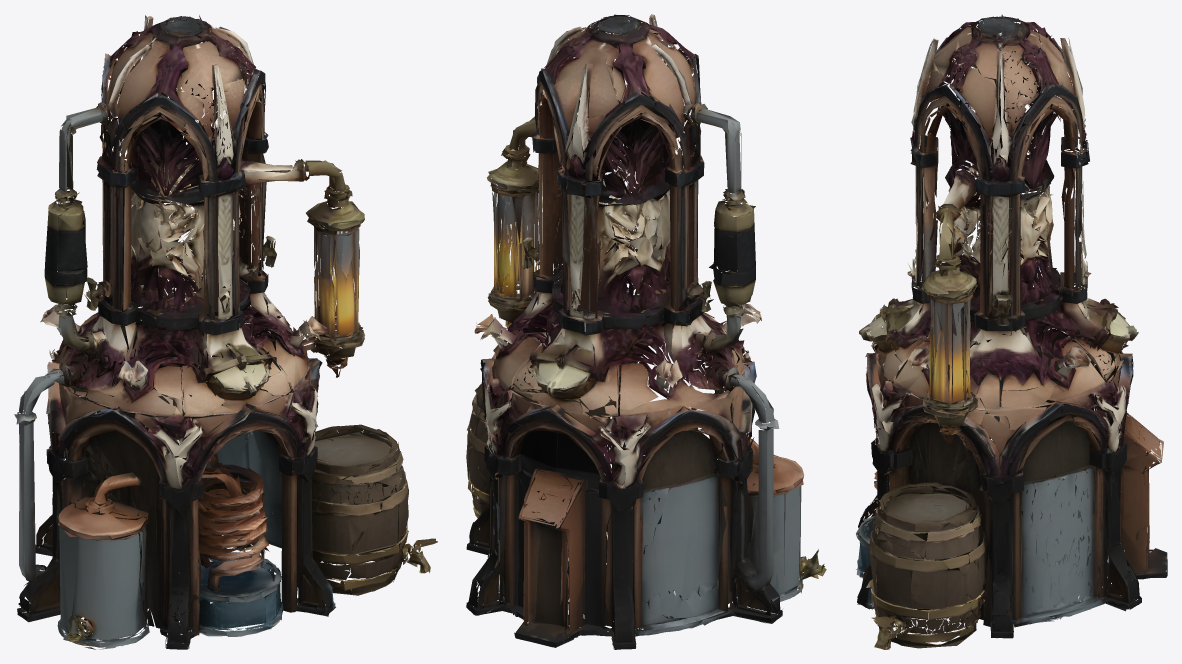
The model's file is prop_camp_tallow_still.glb.
3 renders of one model, left to right at view 1: azimuth 30°, elevation 25°; view 2: azimuth 150°, elevation 25°; view 3: azimuth 270°, elevation 25°, orthographic. The views are drawn at different scales.
Parts seen in each view (by area): view 1: node_0; view 2: node_0; view 3: node_0.
Boxes of the visible parts, x1,y1,x2,y2 form: node_0: [14, 15, 437, 649]; node_0: [466, 14, 826, 649]; node_0: [856, 14, 1167, 649].
Size of the model in its own units: 0.6558 by 0.9833 by 0.5041.
Materials: 1 (1 with a texture image).
